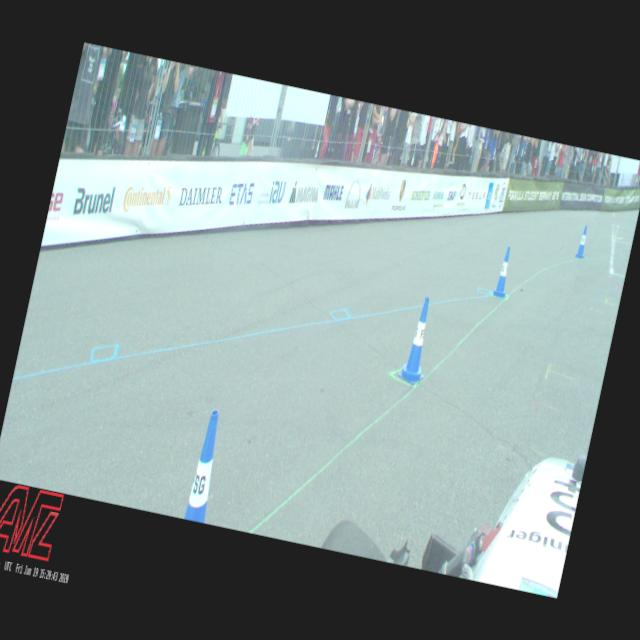blue_cone: (185, 408, 228, 522), (396, 294, 439, 386), (492, 245, 514, 298), (574, 224, 590, 258)
